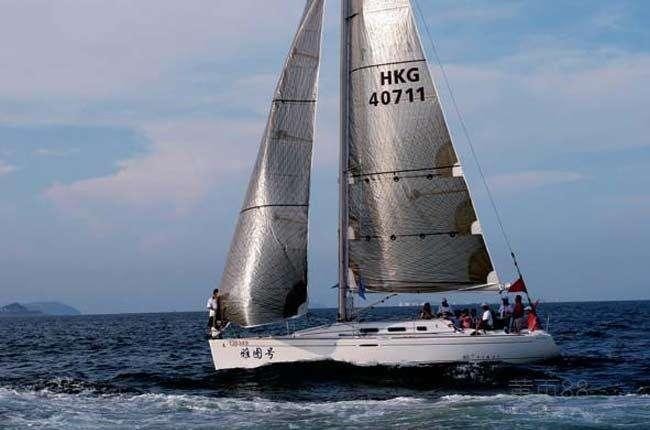fanchuan: (206, 1, 561, 375)
